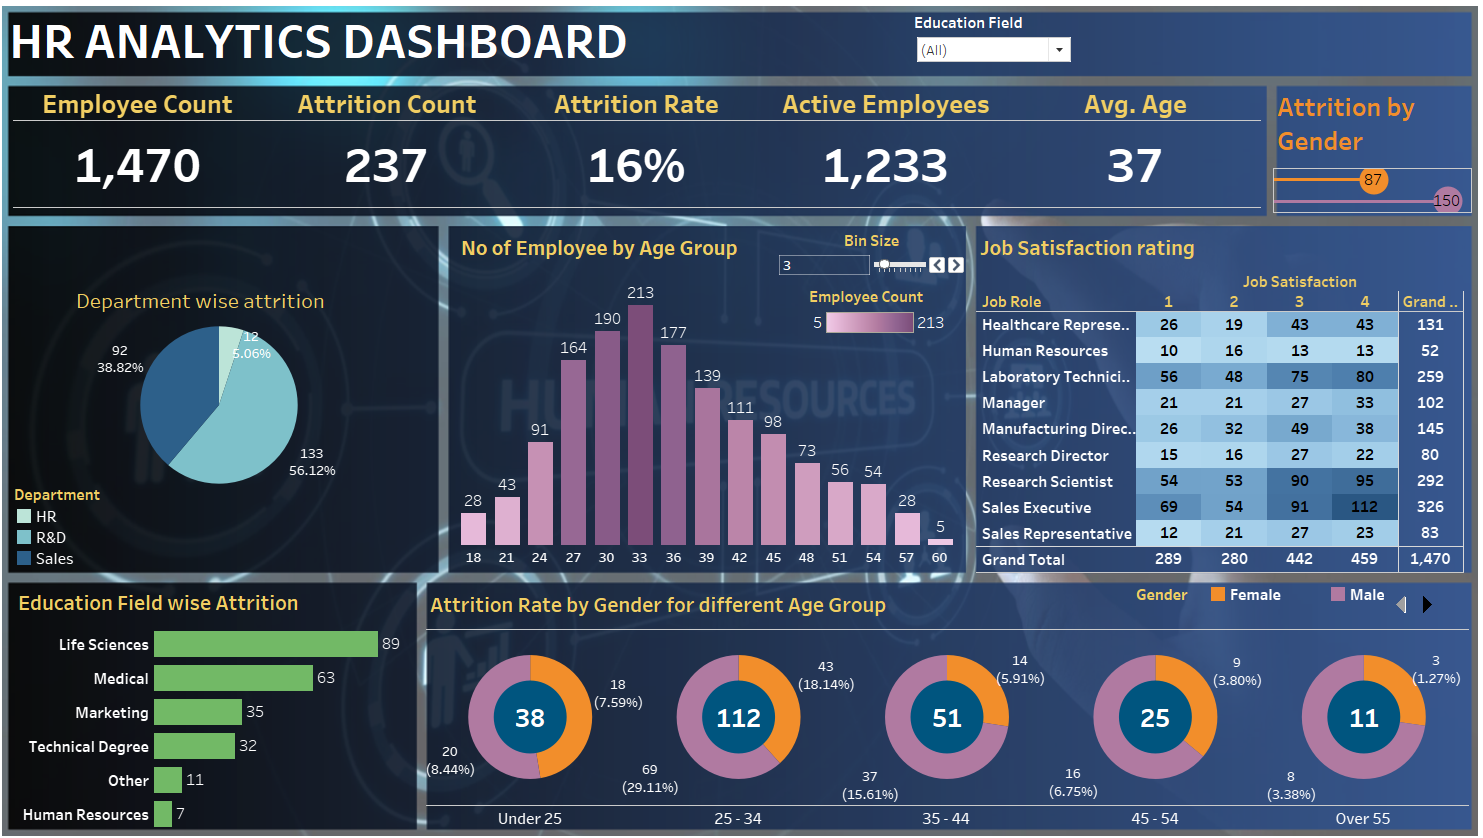

What the dashboard file says about the page in this screenshot:
{"tool":"tableau","page":{"name":"HR ANALYTICS DASHBOARD","canvas":[1500,960],"ordinal":0},"visuals":[{"type":"image","param":"Image/HR background.png","box":[8,8,1484,944]},{"type":"text","box":[16,67,789,62]},{"type":"filter","title":"Education Field wise Attrition","param":"[federated.1x7no3n1gdjelf13wd6lz19i3347].[none:Education Field:nk]","box":[924,71,160,66]},{"type":"worksheet","title":"KPI","mark":"Automatic","box":[23,139,1248,128]},{"type":"worksheet","title":"Attrition by Gender","mark":"Automatic","rows":["Gender"],"cols":["Calculation_1128433221543264256","Calculation_1128433221543264256"],"box":[1283,144,199,128]},{"type":"worksheet","title":"No of Employee by Age Group","mark":"Automatic","rows":["Employee Count"],"cols":["Age (bin)"],"box":[467,288,500,338]},{"type":"worksheet","title":"Job Satisfaction rating","mark":"Square","rows":["Job Role"],"cols":["Job Satisfaction"],"box":[986,288,488,344]},{"type":"parameter","param":"[Parameters].[Parameter 1]","box":[786,289,191,58]},{"type":"worksheet","title":"Department wise attrition","mark":"Pie","box":[82,341,350,253]},{"type":"legend","title":"No of Employee by Age Group","param":"[federated.1x7no3n1gdjelf13wd6lz19i3347].[sum:Employee Count:qk]","box":[819,345,140,52]},{"type":"legend","title":"Department wise attrition","param":"[federated.1x7no3n1gdjelf13wd6lz19i3347].[none:Department:nk]","box":[24,543,91,85]},{"type":"worksheet","title":"Education Field wise Attrition","mark":"Automatic","rows":["Education Field"],"cols":["Calculation_1128433221543264256"],"box":[24,643,402,247]},{"type":"legend","title":"Attrition Rate by Gender for different Age Group","param":"[federated.1x7no3n1gdjelf13wd6lz19i3347].[none:Gender:nk]","box":[1146,643,306,41]},{"type":"worksheet","title":"Attrition Rate by Gender for different Age Group","mark":"Pie","rows":["Calculation_1395271499815632900","Calculation_1395271499815632900"],"cols":["CF_age band"],"box":[436,645,1043,245]}]}

Visuals, with their boxes on the page's 1500x960 design canvas (x1, y1, x2, y2). These are canvas units, not pixel positions in the 1483x838 screenshot, which may show the page scaled, cropped or inside an application window:
image: 8:8:1492:952
text: 16:67:805:129
"Education Field wise Attrition" filter: 924:71:1084:137
"KPI" worksheet: 23:139:1271:267
"Attrition by Gender" worksheet: 1283:144:1482:272
"No of Employee by Age Group" worksheet: 467:288:967:626
"Job Satisfaction rating" worksheet (Square marks): 986:288:1474:632
parameter: 786:289:977:347
"Department wise attrition" worksheet (Pie marks): 82:341:432:594
"No of Employee by Age Group" legend: 819:345:959:397
"Department wise attrition" legend: 24:543:115:628
"Education Field wise Attrition" worksheet: 24:643:426:890
"Attrition Rate by Gender for different Age Group" legend: 1146:643:1452:684
"Attrition Rate by Gender for different Age Group" worksheet (Pie marks): 436:645:1479:890
